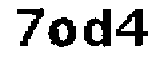4: (116, 5, 151, 48)
7: (11, 4, 45, 51)
d: (81, 6, 115, 52)
o: (46, 16, 79, 49)
